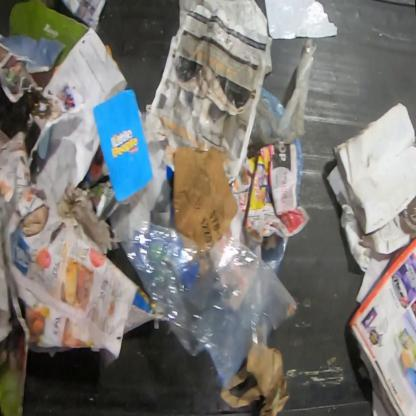cardboard: (326, 102, 416, 233), (172, 144, 238, 245), (7, 0, 91, 68), (0, 250, 31, 415)
soft_plastic: (120, 218, 299, 392), (247, 38, 318, 148), (263, 0, 339, 40), (261, 233, 291, 273), (260, 87, 286, 119), (293, 136, 304, 200)
